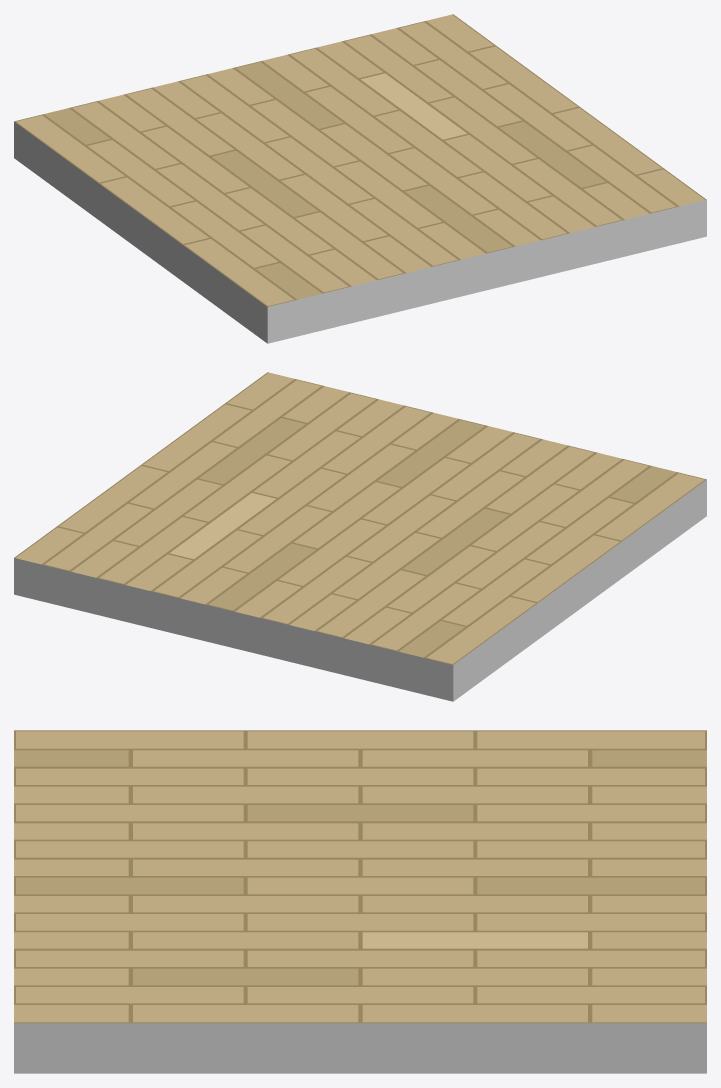
The model's file is Floor13_01.fbx.
The picture shows the model from 3 angles, top to bottom: view 1: azimuth 30°, elevation 25°; view 2: azimuth 150°, elevation 25°; view 3: azimuth 270°, elevation 25°; orthographic projection. The views are drawn at different scales.
Parts seen in each view (by area): view 1: Floor13_01; view 2: Floor13_01; view 3: Floor13_01.
Boxes of the visible parts, x1,y1,x2,y2 form: Floor13_01: (14,14,706,343); Floor13_01: (14,372,706,701); Floor13_01: (14,730,706,1073).
Size of the model in its own units: 250 by 20 by 250.
